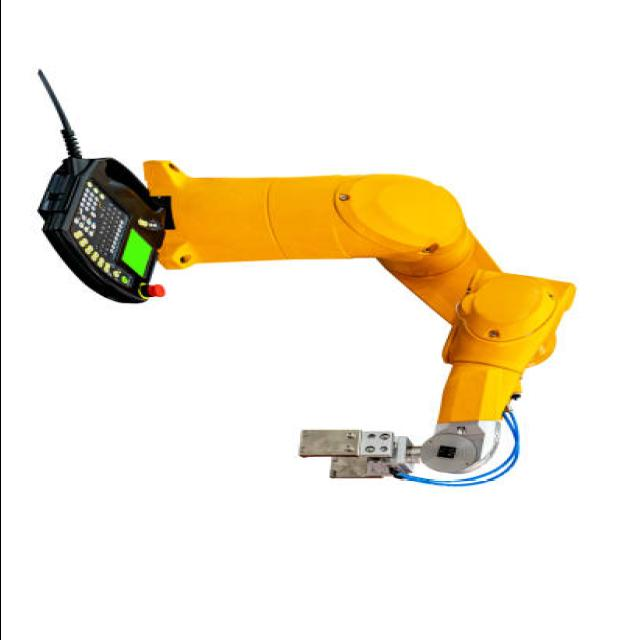Robotic-arm: (143, 162, 587, 483)
